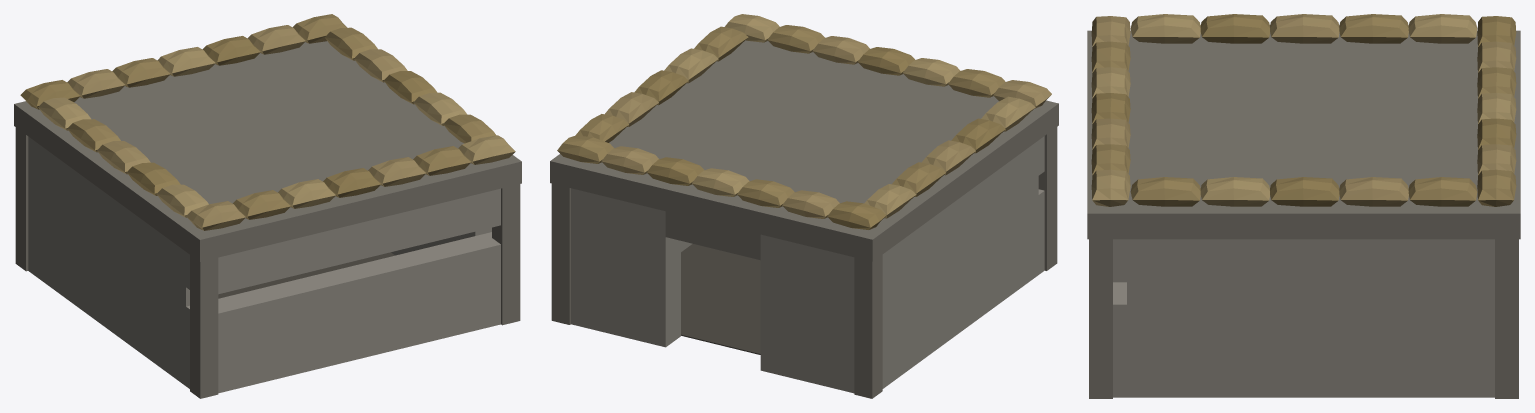
Rendered from bunker.glb.
3 renders of one model, left to right at view 1: azimuth 30°, elevation 25°; view 2: azimuth 150°, elevation 25°; view 3: azimuth 270°, elevation 25°, orthographic. The views are drawn at different scales.
Parts seen in each view (by area): view 1: lod0; view 2: lod0; view 3: lod0.
Boxes of the visible parts, bbox=[...] form: lod0: bbox=[14, 14, 521, 398]; lod0: bbox=[550, 14, 1058, 398]; lod0: bbox=[1087, 14, 1520, 398].
Size of what is drawn, in the model's own units: 6.12 by 3.26 by 6.12.
